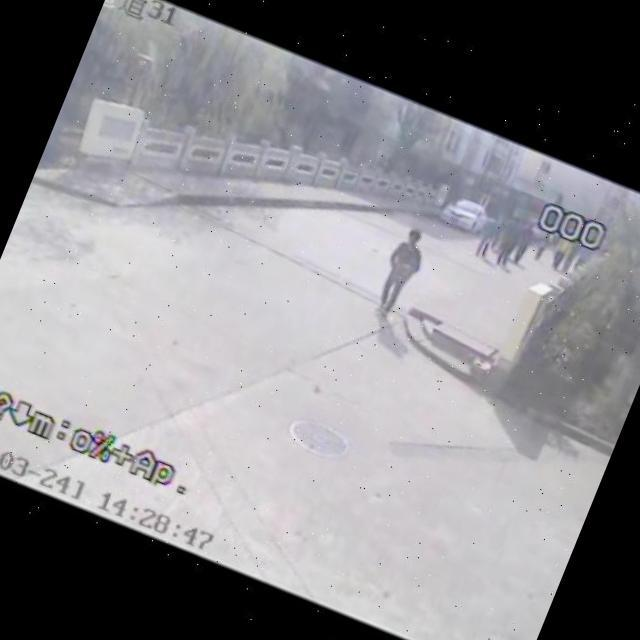person: (368, 222, 436, 321), (484, 216, 527, 276), (463, 208, 506, 264), (506, 218, 546, 269), (547, 234, 573, 276), (527, 232, 551, 268)
